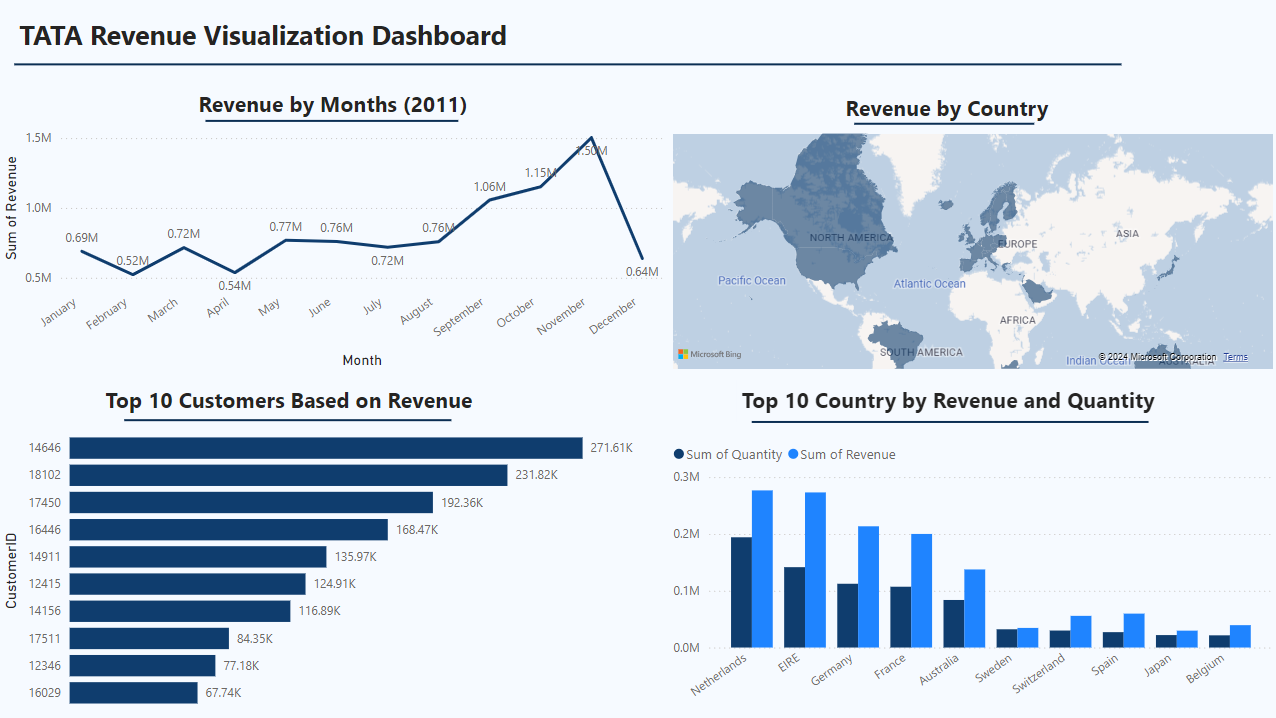

The page's visual inventory and layout, read from the dashboard file:
{"tool":"powerbi","page":{"name":"Page 1","canvas":[1280,720],"ordinal":0},"visuals":[{"type":"lineChart","title":"Revenue by Months (2011)","fields":{"Y":["Sum(Online Retail.Revenue)"],"Category":["Online Retail.InvoiceDate.Variation.Date Hierarchy.Month"]},"box":[0,88.3,670,285],"z":0},{"type":"textbox","box":[15.7,11.4,591.4,54.3],"z":1000},{"type":"shape","box":[16.2,53.8,1107.5,21.2],"z":1001},{"type":"filledMap","title":"Revenue by Country","fields":{"Category":["Online Retail.Country"]},"box":[670,128.3,610,245],"z":1002},{"type":"textbox","box":[842,87,289,41],"z":1003},{"type":"textbox","box":[102.9,380,407.1,41.4],"z":1004},{"type":"clusteredColumnChart","fields":{"Category":["Online Retail.Country"],"Y":["Sum(Online Retail.Quantity)","Sum(Online Retail.Revenue)"]},"box":[670,434.3,610,285.7],"z":1005},{"type":"textbox","box":[738.6,380,474.3,41.4],"z":1006},{"type":"clusteredBarChart","fields":{"Category":["Online Retail.CustomerID"],"Y":["Sum(Online Retail.revenue_new)"]},"box":[0,413.8,640,306.2],"z":1007},{"type":"shape","box":[855.7,118.6,180,10],"z":1008},{"type":"shape","box":[125.7,414.3,327.1,12.9],"z":1009},{"type":"shape","box":[754.3,415.7,397.1,11.4],"z":1010},{"type":"shape","box":[207.1,114.3,252.9,14.3],"z":1011}]}

Visuals, with their boxes in screenshot pixels (x1, y1, x2, y2), scaled from the page's 1280x720 canvas onto the 1276x718 screenshot:
"Revenue by Months (2011)" lineChart: (x1=0, y1=88, x2=668, y2=372)
textbox: (x1=16, y1=11, x2=605, y2=66)
shape: (x1=16, y1=54, x2=1120, y2=75)
"Revenue by Country" filledMap: (x1=668, y1=128, x2=1275, y2=372)
textbox: (x1=839, y1=87, x2=1127, y2=128)
textbox: (x1=103, y1=379, x2=508, y2=420)
clusteredColumnChart - Online Retail.Country x Sum(Online Retail.Quantity): (x1=668, y1=433, x2=1275, y2=717)
textbox: (x1=736, y1=379, x2=1209, y2=420)
clusteredBarChart - Online Retail.CustomerID x Sum(Online Retail.revenue_new): (x1=0, y1=413, x2=638, y2=717)
shape: (x1=853, y1=118, x2=1032, y2=128)
shape: (x1=125, y1=413, x2=451, y2=426)
shape: (x1=752, y1=415, x2=1148, y2=426)
shape: (x1=206, y1=114, x2=459, y2=128)
